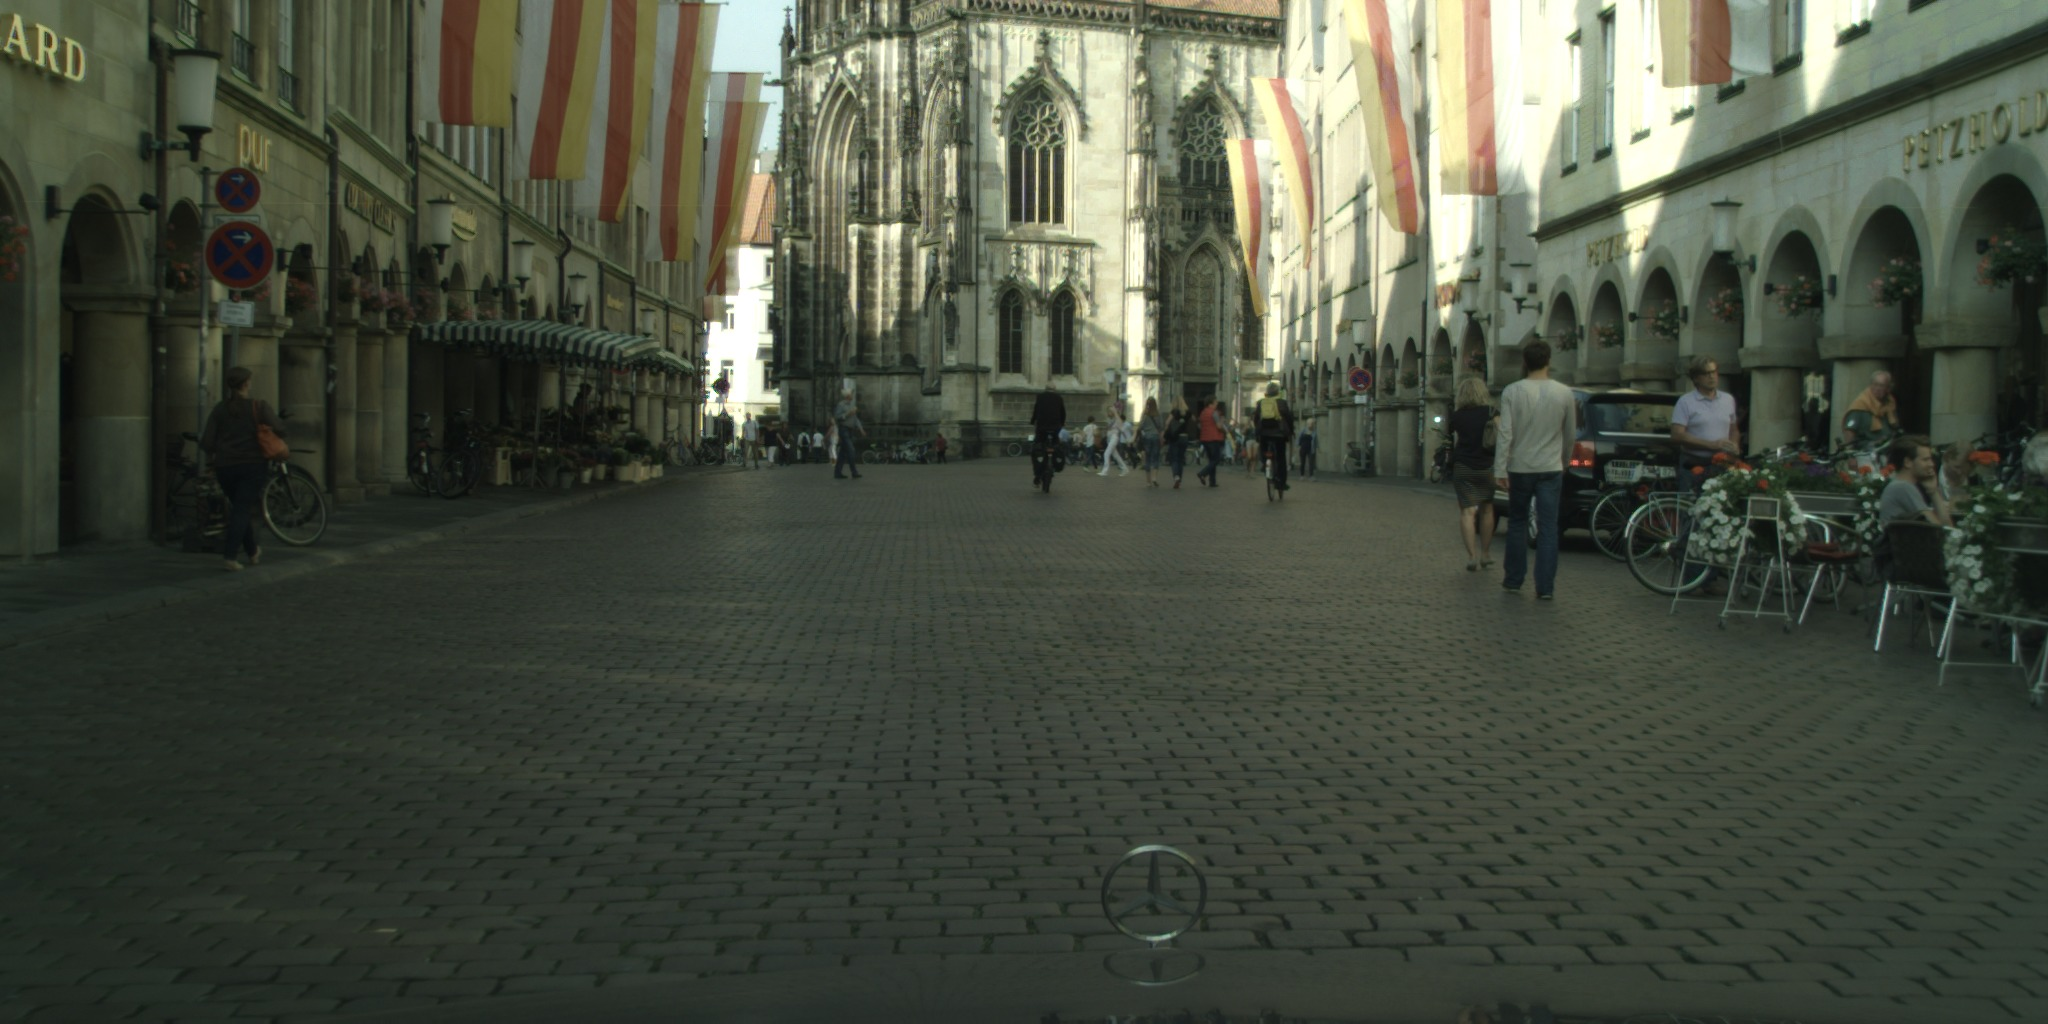bicycle: (1623, 435, 1850, 602), (1741, 427, 1906, 599), (1926, 425, 2045, 536), (1590, 447, 1675, 563), (408, 410, 461, 499), (436, 406, 482, 499), (1428, 427, 1452, 484), (660, 422, 691, 466), (1343, 435, 1375, 477), (1265, 437, 1283, 503), (677, 424, 701, 465), (1006, 432, 1039, 457), (1043, 431, 1056, 494), (695, 428, 715, 464), (777, 439, 793, 468)
car: (1472, 384, 1693, 550)
person: (1494, 339, 1576, 602), (1669, 355, 1743, 596), (207, 365, 290, 569), (1447, 377, 1501, 574), (1879, 433, 1958, 542), (1841, 369, 1902, 475), (1928, 440, 1985, 516), (1164, 395, 1198, 491), (833, 386, 867, 480), (1196, 394, 1228, 488), (1097, 403, 1130, 477), (1138, 396, 1163, 490), (1296, 416, 1318, 481), (1082, 414, 1104, 473), (1242, 409, 1261, 479), (1118, 414, 1140, 469), (572, 382, 592, 443), (741, 411, 762, 469), (822, 416, 840, 467), (1057, 418, 1075, 467), (762, 418, 779, 468), (1130, 423, 1147, 461), (811, 425, 825, 465), (1191, 425, 1206, 465), (797, 426, 812, 463), (1071, 427, 1084, 465), (936, 433, 948, 466)
rider: (1254, 382, 1293, 491), (1030, 382, 1068, 486), (779, 418, 794, 456)
